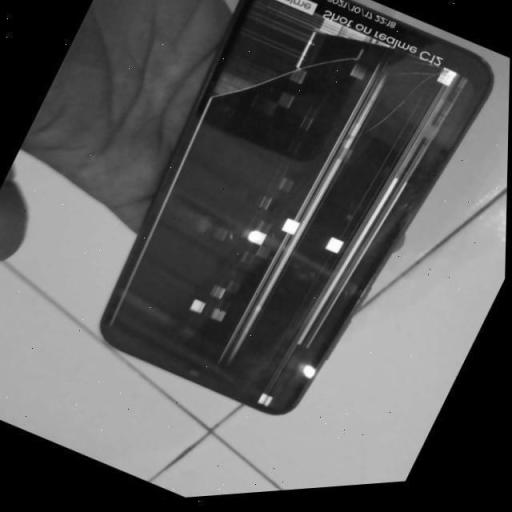phone: (101, 0, 490, 424)
